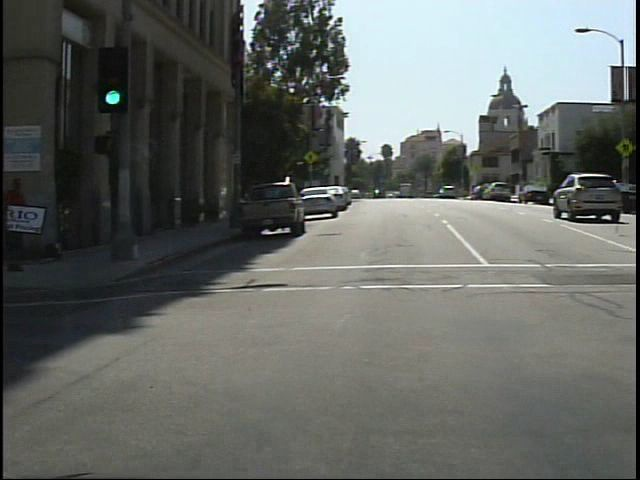person: (4, 162, 37, 280)
